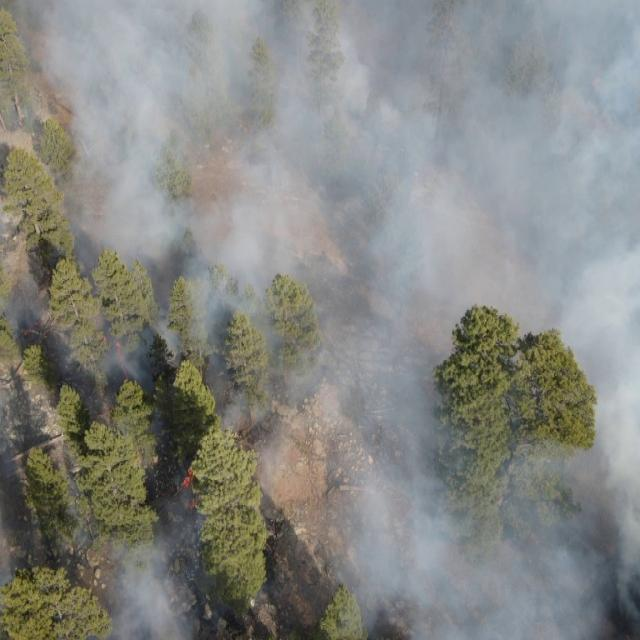fire: (102, 336, 130, 380), (179, 468, 199, 512), (16, 320, 44, 339)
smoke: (0, 0, 640, 640)
